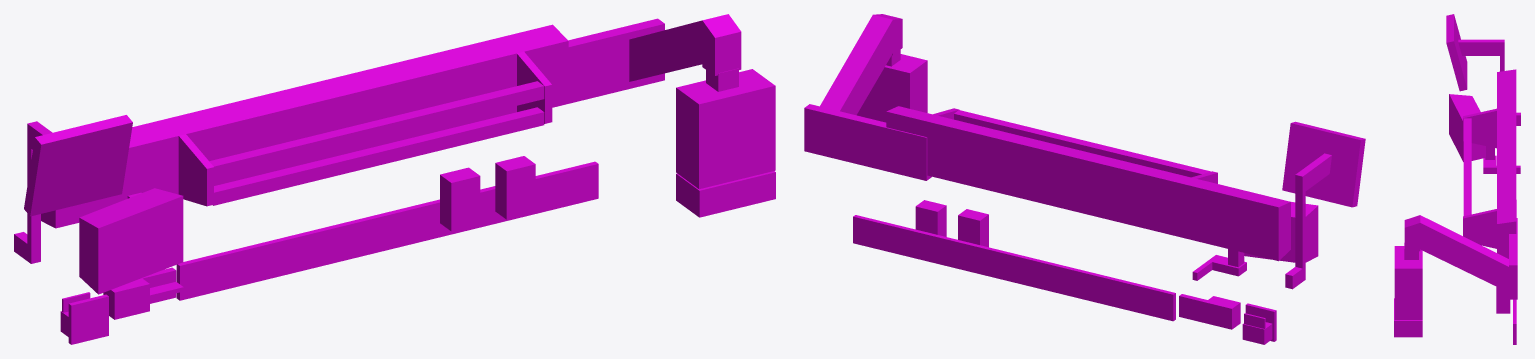
The model's file is SM_HadboardCollider.fbx.
3 views of the same model, side by side, from view 1: azimuth 30°, elevation 25°; view 2: azimuth 150°, elevation 25°; view 3: azimuth 270°, elevation 25° (orthographic). The views are drawn at different scales.
Visible parts, largest first — view 1: HadboardCollision; view 2: HadboardCollision; view 3: HadboardCollision.
Part boxes in pixels (box(x1,y1,x2,y2)): HadboardCollision: box(14, 14, 775, 344); HadboardCollision: box(804, 14, 1365, 344); HadboardCollision: box(1394, 14, 1520, 344).
Bounding box in the file's own units: 387 × 135 × 101.
